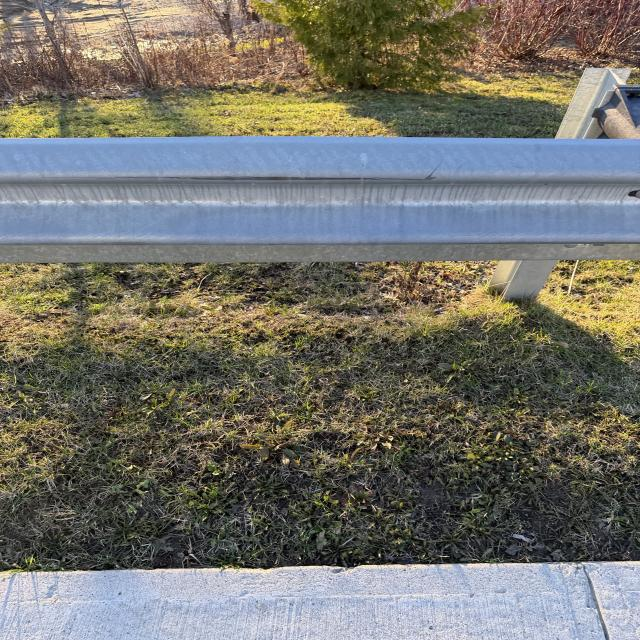Guard rail: (15, 141, 628, 261)
